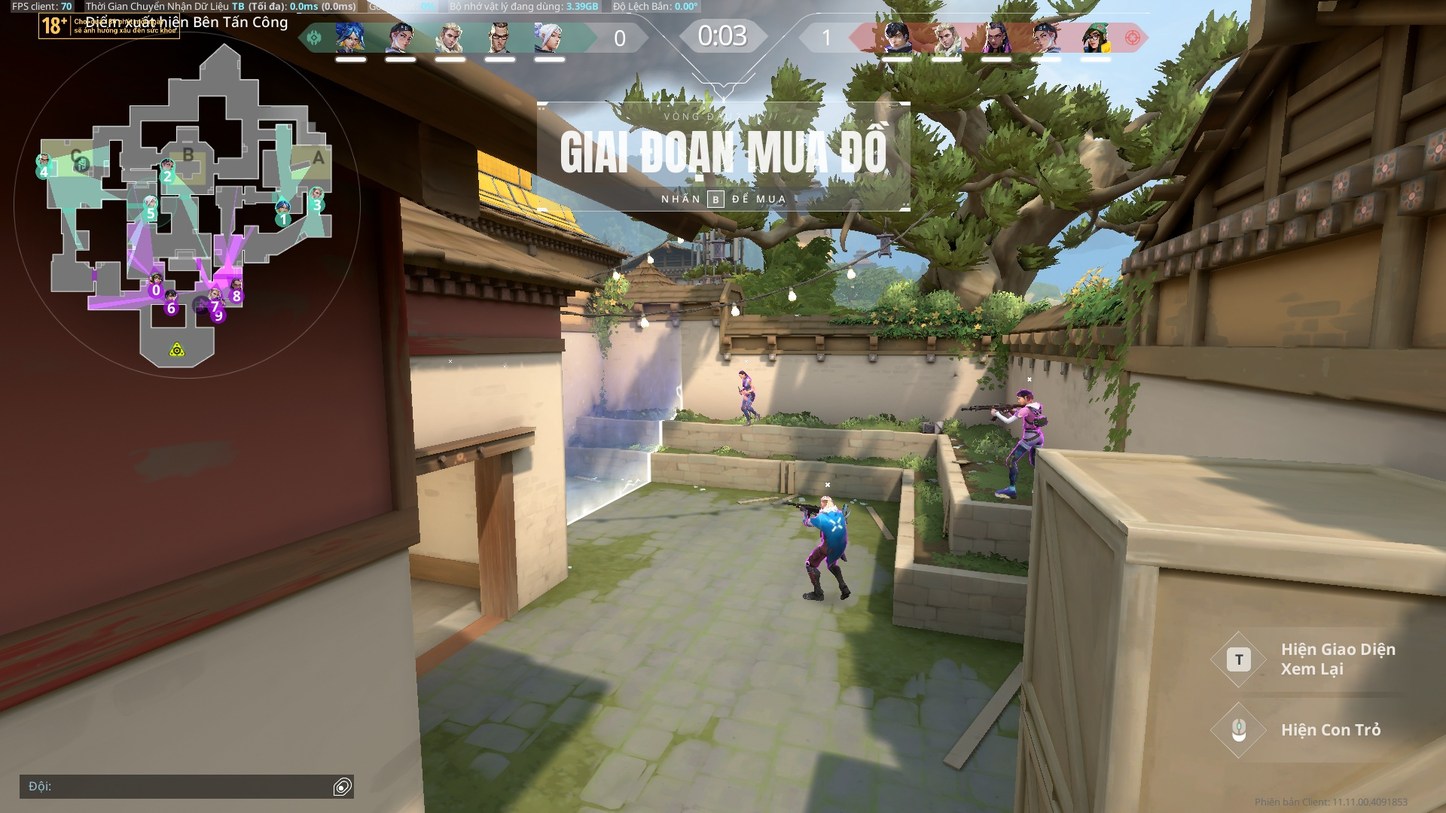body: (815, 509, 849, 544), (1020, 402, 1043, 431), (742, 377, 755, 391)
head: (1014, 388, 1035, 403), (819, 496, 833, 511), (738, 370, 746, 379)
